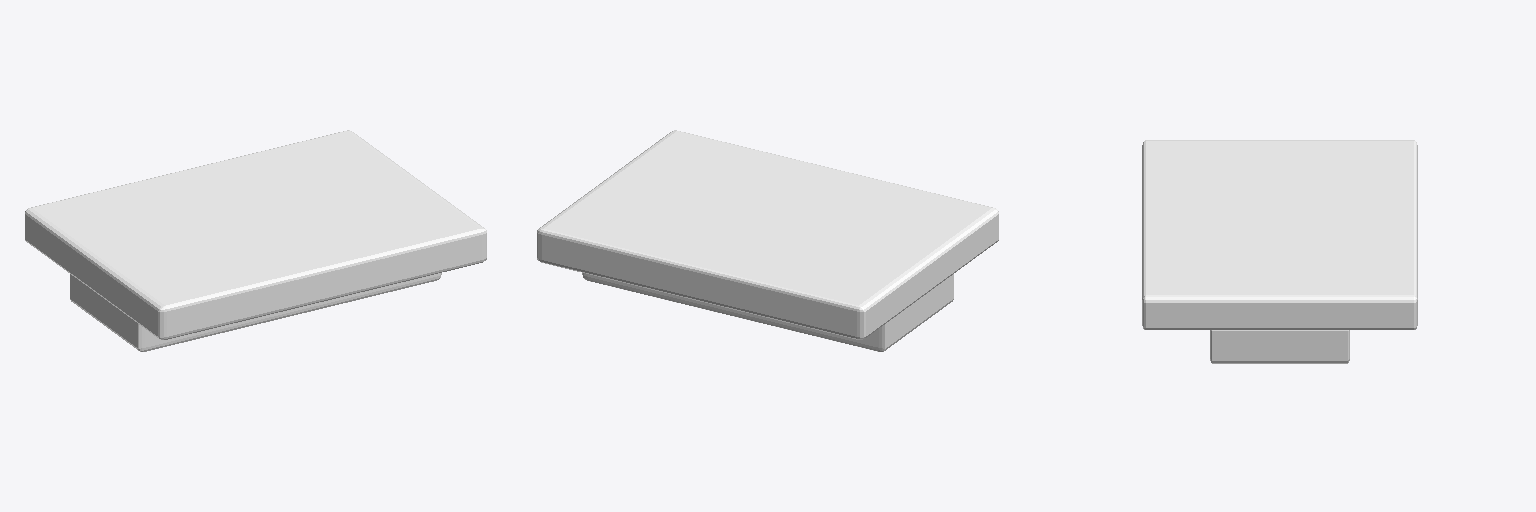
The model's file is clicClacOuvert.obj.
3 views of the same model, side by side, from view 1: azimuth 30°, elevation 25°; view 2: azimuth 150°, elevation 25°; view 3: azimuth 270°, elevation 25° (orthographic).
Parts seen in each view (by area): view 1: mattress_1_6, mattress_1; view 2: mattress_1_6, mattress_1; view 3: mattress_1_6, mattress_1.
Part boxes in pixels (x1,y1,x2,y2): mattress_1_6: (25,130,486,339); mattress_1: (70,273,441,351); mattress_1_6: (537,130,998,339); mattress_1: (582,273,953,351); mattress_1_6: (1142,140,1417,329); mattress_1: (1210,330,1349,363).
Bounding box in the file's own units: 182 × 39.87 × 132.